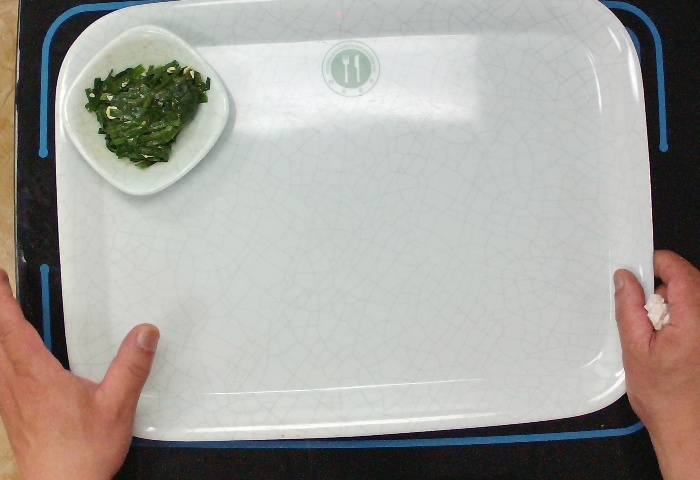JYsf-Si_Fang_Die: (61, 24, 232, 198)
